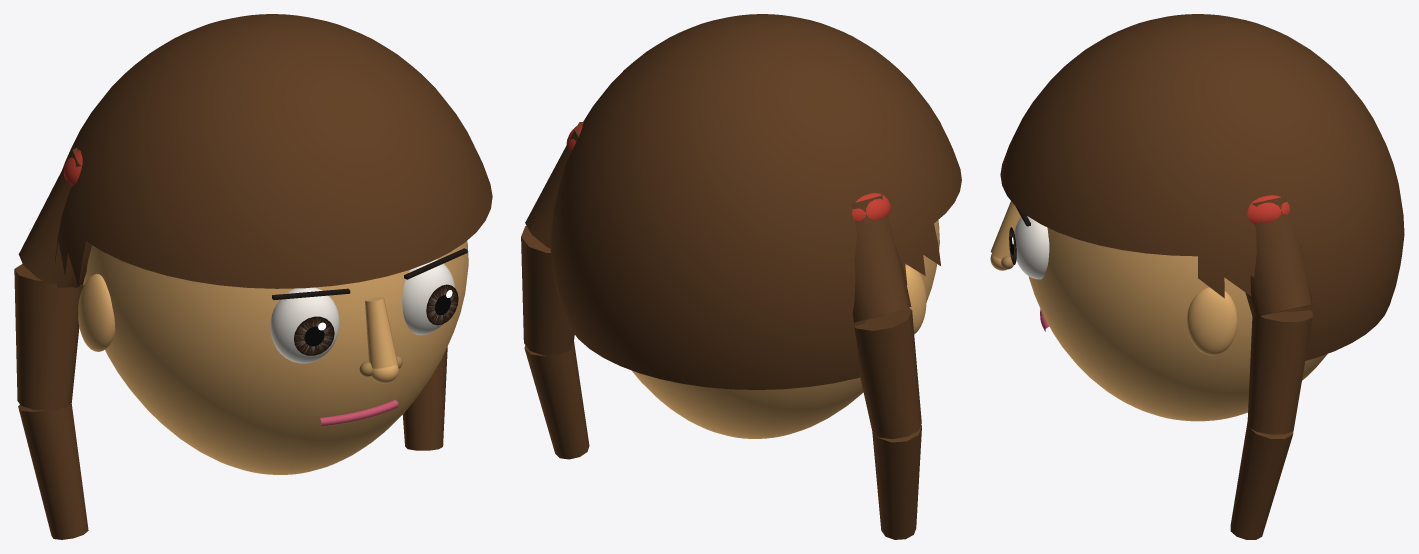
File: femme-07-couettes.glb
3 views of the same model, side by side, from view 1: azimuth 30°, elevation 25°; view 2: azimuth 150°, elevation 25°; view 3: azimuth 270°, elevation 25° (orthographic). The views are drawn at different scales.
Size of the model in its own units: 0.3598 by 0.3885 by 0.3417.
12 materials, 1 textured.
